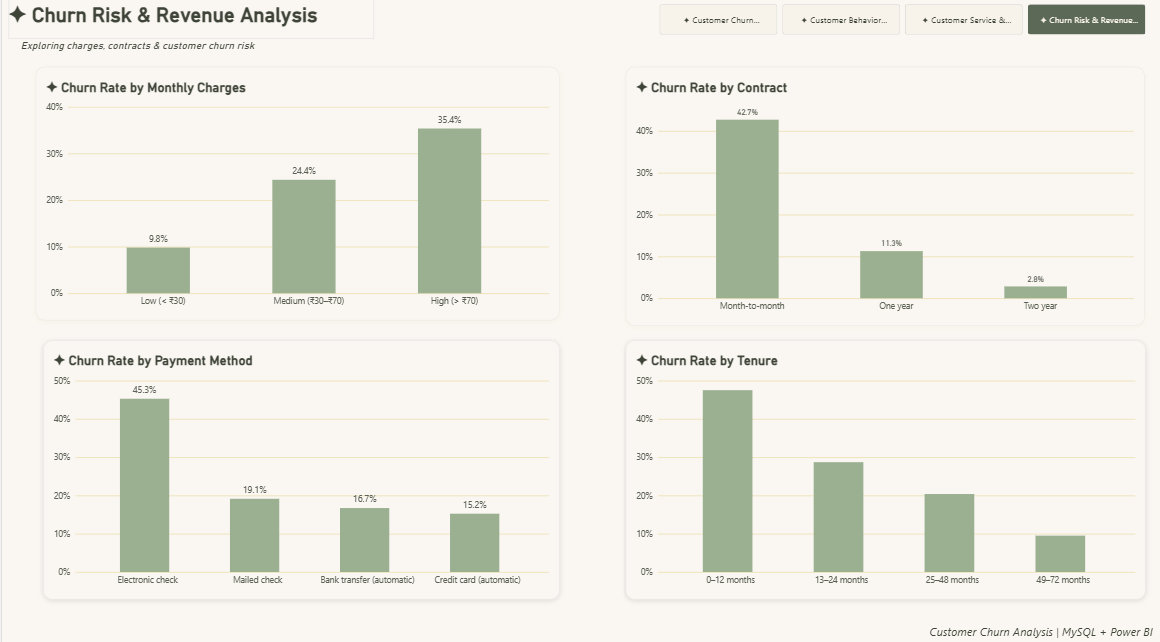

This screenshot's page, from the dashboard's own definition file:
{"tool":"powerbi","page":{"name":"✦ Churn Risk & Revenue Analysis","canvas":[1920,1080],"ordinal":3},"visuals":[{"type":"textbox","box":[10.3,0,603.1,67.9],"z":0},{"type":"textbox","box":[30.9,67.9,446.7,37],"z":1},{"type":"clusteredColumnChart","title":"✦ Churn Rate by Monthly Charges","fields":{"Category":["customer_churn customers.Monthly Charges Group"],"Y":["customer_churn customers.Churn Rate KPI"]},"box":[10.3,105,817.2,426.1],"z":2},{"type":"clusteredColumnChart","title":"✦ Churn Rate by Contract","fields":{"Category":["customer_churn customers.Contract"],"Y":["customer_churn customers.Churn Rate KPI"]},"box":[994.2,105,817,426],"z":3},{"type":"clusteredColumnChart","title":"✦ Churn Rate by Payment Method","fields":{"Category":["customer_churn customers.PaymentMethod"],"Y":["customer_churn customers.Churn Rate KPI"]},"box":[10.3,588.7,817,426],"z":4},{"type":"clusteredColumnChart","title":"✦ Churn Rate by Tenure","fields":{"Category":["customer_churn customers.Tenure Group"],"Y":["customer_churn customers.Churn Rate KPI"]},"box":[959.2,588.7,817,426],"z":5},{"type":"pageNavigator","box":[1082.7,10.3,800,50],"z":6},{"type":"textbox","box":[1527.3,1031.2,393.1,49.4],"z":7}]}

Visuals, with their boxes in screenshot pixels (x1, y1, x2, y2), scaled from the page's 1920x1080 canvas onto the 1160x642 screenshot:
textbox: bbox(6, 0, 371, 40)
textbox: bbox(19, 40, 289, 62)
"✦ Churn Rate by Monthly Charges" clusteredColumnChart: bbox(6, 62, 500, 316)
"✦ Churn Rate by Contract" clusteredColumnChart: bbox(601, 62, 1094, 316)
"✦ Churn Rate by Payment Method" clusteredColumnChart: bbox(6, 350, 500, 603)
"✦ Churn Rate by Tenure" clusteredColumnChart: bbox(580, 350, 1073, 603)
pageNavigator: bbox(654, 6, 1137, 36)
textbox: bbox(923, 613, 1159, 641)
